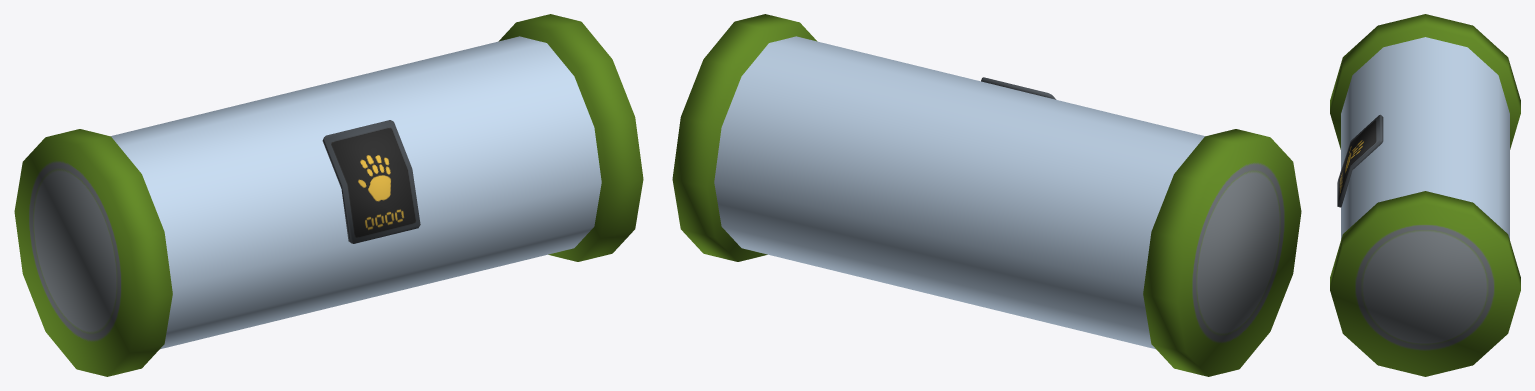
Rendered from GameJam_Plant.FBX.
The picture shows the model from 3 angles, left to right: view 1: azimuth 30°, elevation 25°; view 2: azimuth 150°, elevation 25°; view 3: azimuth 270°, elevation 25°; orthographic projection. The views are drawn at different scales.
Parts seen in each view (by area): view 1: Object001, Tube; view 2: Object001, Tube; view 3: Tube, Object001.
Part boxes in pixels (x1,y1,x2,y2): Object001: (111,36,601,349); Tube: (14,14,643,376); Object001: (714,36,1204,349); Tube: (672,14,1301,376); Tube: (1330,14,1520,376); Object001: (1341,37,1509,239).
Size of the model in its own units: 55.02 by 23.36 by 23.36.
